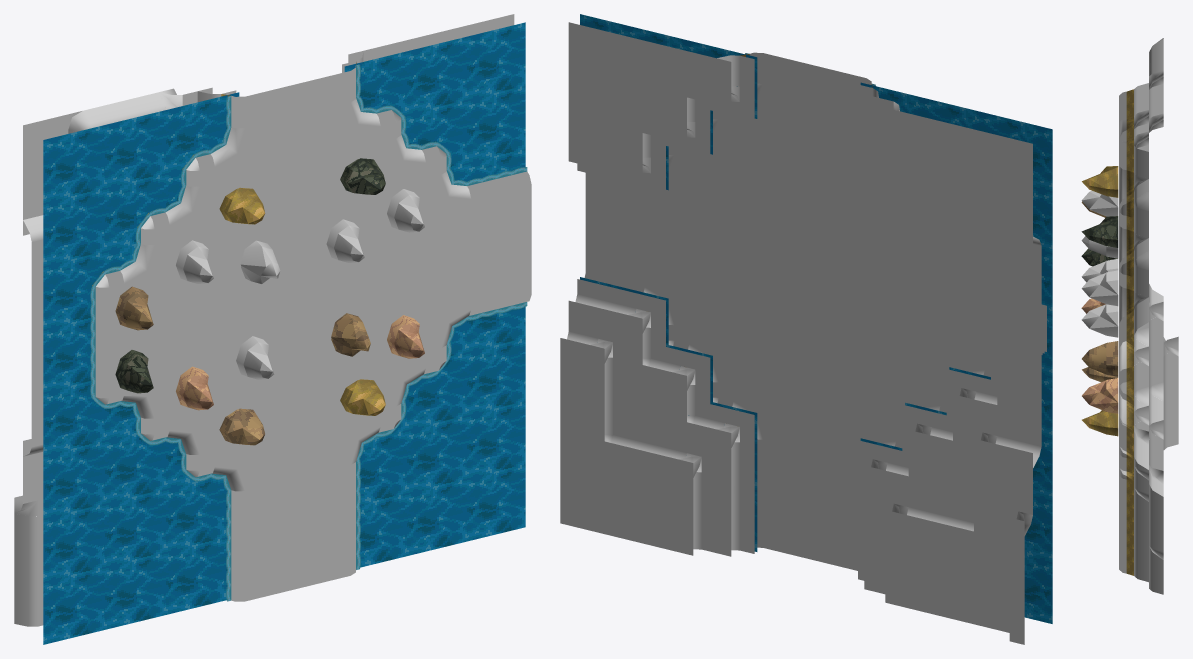
File: Sandstone-Cave_01_01.obj
The picture shows the model from 3 angles, left to right: view 1: azimuth 30°, elevation 25°; view 2: azimuth 150°, elevation 25°; view 3: azimuth 270°, elevation 25°; orthographic projection. The views are drawn at different scales.
Visible parts, largest first — view 1: map; view 2: map; view 3: map.
Part boxes in pixels (box(x1,y1,x2,y2)): map: box(14, 14, 531, 644); map: box(560, 14, 1052, 644); map: box(1081, 38, 1178, 594).
Size of the model in its own units: 32 by 32 by 6.54.
